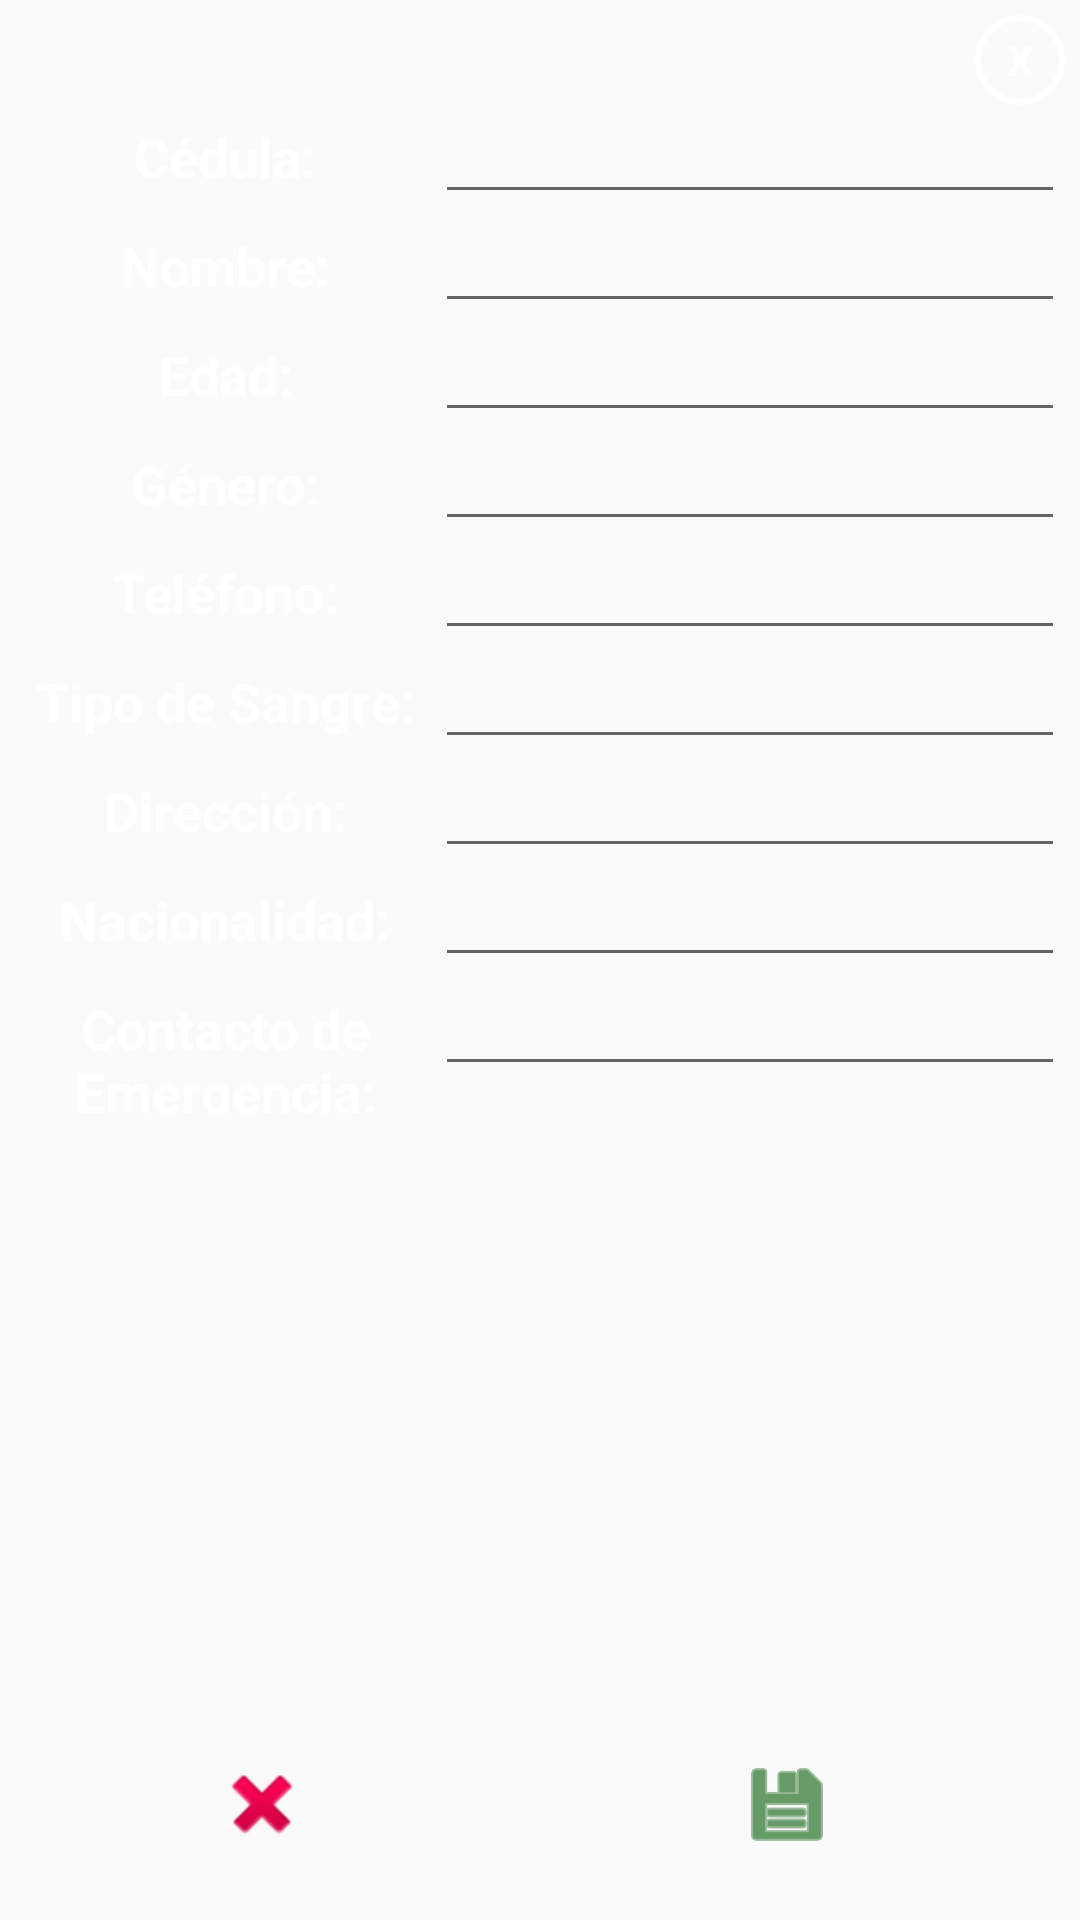

Screen size 1080 x 1920. Icon name, then its box in pixels as (x1, y1, x2, y2):
delete: (231, 1775, 293, 1834)
save: (751, 1768, 823, 1841)
